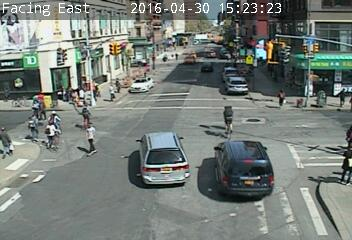neg: (213, 102, 242, 140), (277, 42, 293, 63), (180, 32, 190, 46)
pos: (77, 121, 104, 157), (39, 117, 61, 147), (334, 143, 351, 181), (24, 114, 42, 139), (334, 83, 351, 109), (272, 84, 290, 107), (76, 102, 93, 125), (341, 121, 351, 144), (104, 81, 117, 98), (31, 99, 42, 113), (91, 80, 101, 95)
